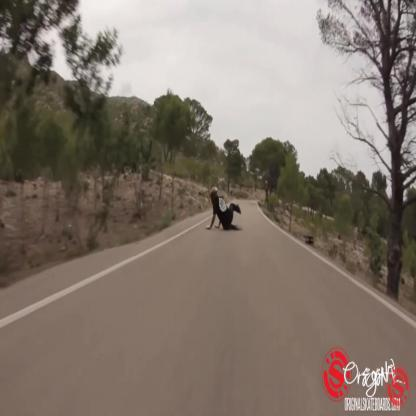Fall_Down: (204, 182, 242, 237)
